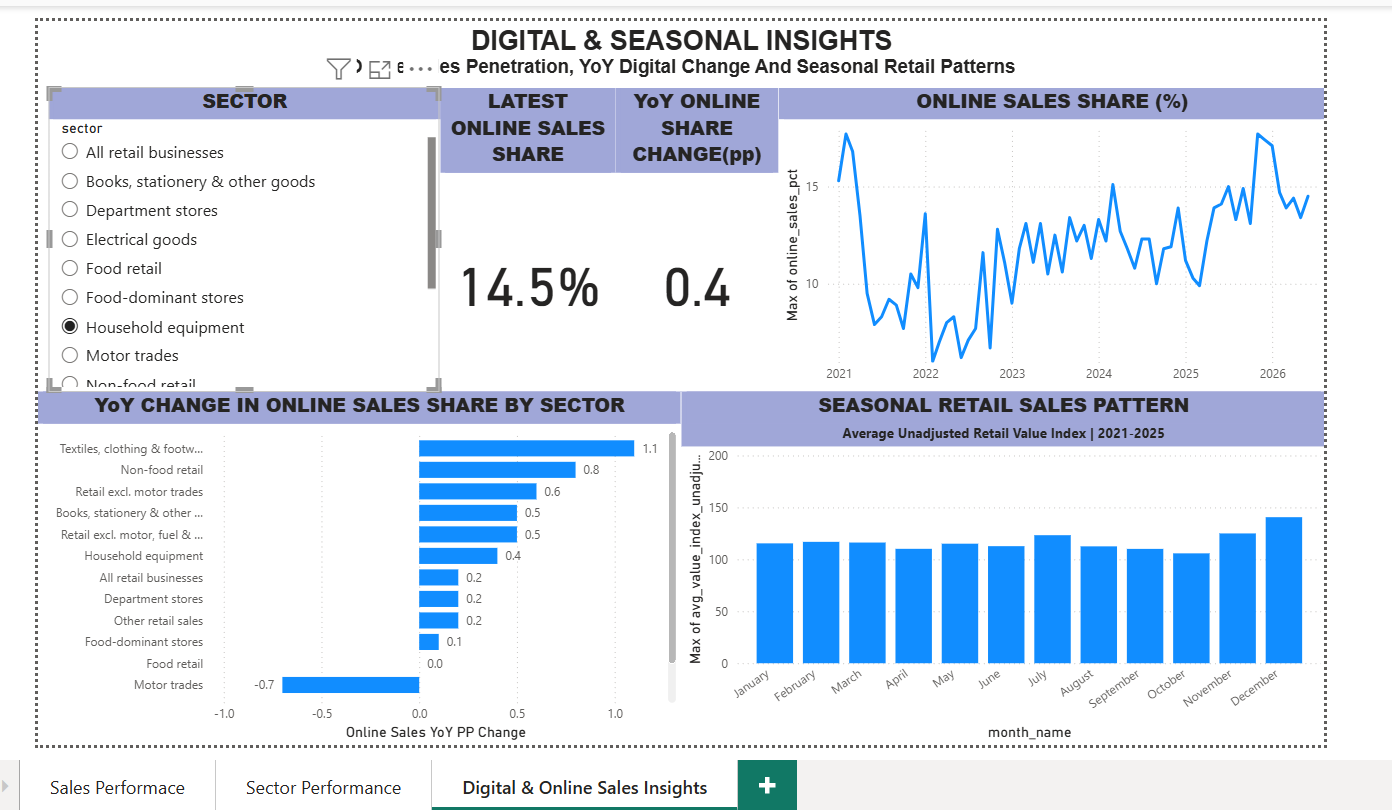

The page's visual inventory and layout, read from the dashboard file:
{"tool":"powerbi","page":{"name":"Digital & Online Sales Insights","canvas":[1280,720],"ordinal":2},"visuals":[{"type":"slicer","title":"SECTOR","fields":{"Values":["vw_dashboard.sector"]},"box":[9.7,66.4,390.2,302.8],"z":0},{"type":"card","title":"LATEST ONLINE SALES SHARE","fields":{"Values":["vw_dashboard.Latest Online Sales by Sector"]},"box":[399.9,66.4,174.9,302.8],"z":1000},{"type":"card","title":"YoY ONLINE SHARE CHANGE(pp)","fields":{"Values":["vw_dashboard.Online Sales YoY PP Change"]},"box":[574.8,66.4,161.9,302.8],"z":2000},{"type":"lineChart","title":"ONLINE SALES SHARE (%)","fields":{"Category":["vw_dashboard.month_start"],"Y":["Max(vw_dashboard.online_sales_pct)"]},"box":[736.7,66.4,544.1,302.8],"z":3000},{"type":"barChart","title":"YoY CHANGE IN ONLINE SALES SHARE BY SECTOR","fields":{"Category":["vw_dashboard.sector"],"Y":["vw_dashboard.Online Sales YoY PP Change"]},"box":[0,369.2,639.6,351.4],"z":4000},{"type":"clusteredColumnChart","title":"SEASONAL RETAIL SALES PATTERN","fields":{"Category":["seasonality.month_name"],"Y":["Max(seasonality.avg_value_index_unadjusted)"]},"box":[639.6,369.2,641.2,351.4],"z":4001},{"type":"textbox","box":[0,0,1280.8,66.4],"z":4002}]}

Visuals, with their boxes on the page's 1280x720 design canvas (x1, y1, x2, y2). These are canvas units, not pixel positions in the 1392x810 screenshot, which may show the page scaled, cropped or inside an application window:
"SECTOR" slicer: bbox=(10, 66, 400, 369)
"LATEST ONLINE SALES SHARE" card: bbox=(400, 66, 575, 369)
"YoY ONLINE SHARE CHANGE(pp)" card: bbox=(575, 66, 737, 369)
"ONLINE SALES SHARE (%)" lineChart: bbox=(737, 66, 1281, 369)
"YoY CHANGE IN ONLINE SALES SHARE BY SECTOR" barChart: bbox=(0, 369, 640, 721)
"SEASONAL RETAIL SALES PATTERN" clusteredColumnChart: bbox=(640, 369, 1281, 721)
textbox: bbox=(0, 0, 1281, 66)
